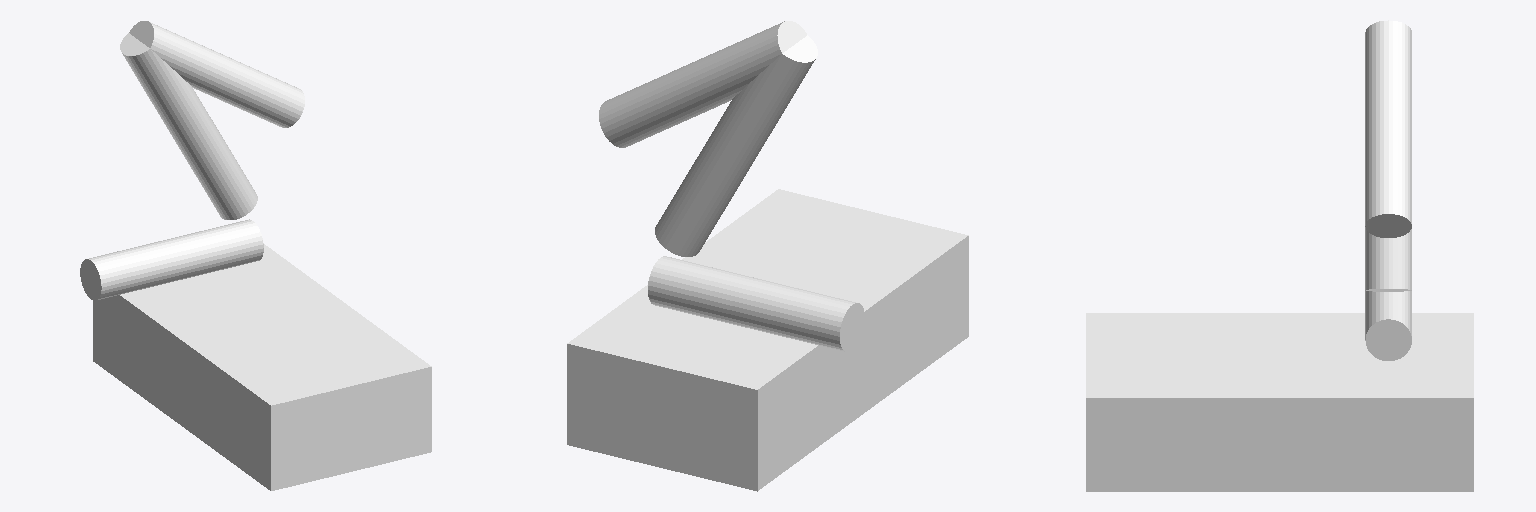
URDF robot description (lego_arm):
<?xml version="1.0"?>

<robot name="lego_arm">
    
    <link name="base_link">
        <visual>
            <origin xyz="-0.017 -0.056 0.0265" rpy="0.0 0.0 0.0"/>                  
            <geometry>
                <box size="-0.104 -0.200 0.053"/>
            </geometry> 
            <material name="white">
                <color rgba="1 1 1 1"/>
            </material>
        </visual>
    </link>

    <joint name="arm_joint_1" type="continuous">
        <parent link="base_link"/>
        <child link="link_1"/>
        <origin xyz="0.0 0.0 0.098"/>
        <axis xyz="0 0 1"/>
    </joint>      
       
    <link name="link_1">
        <visual>
            <origin xyz="-0.043 0 -0.024" rpy="0.0 -1.57075 0.0"/>
            <geometry>
                <cylinder length="0.105" radius="0.012"/>
            </geometry> 
            <material name="white">
                <color rgba="1 1 1 1"/>
            </material>
        </visual>
    </link>

    <joint name="arm_joint_2" type="continuous">
        <parent link="link_1"/>
        <child link="link_2"/>
        <origin xyz="0.0 0.0 0.0" rpy="1.57075 -2.0735 0.0"/>
        <axis xyz="0 0 1"/>
    </joint>    
       
    <link name="link_2">
        <visual>    
        <origin xyz="0.0665 0.0 0.0" rpy="0.0 1.57075 0.0"/>
        <geometry>
            <cylinder length="0.133" radius="0.012"/>
        </geometry>
        <material name="white">
            <color rgba="1 1 1 1"/>
            </material>
        </visual>
    </link>
    
    
    <joint name="arm_joint_3" type="continuous">
        <parent link="link_2"/>
        <child link="link_3"/>
        <origin xyz="0.133 0.0 0.0" rpy="0.0 0.0 -2.65635"/>
        <axis xyz="0 0 1"/>
    </joint>      
       
    <link name="link_3">
        <visual>    
            <origin xyz="0.0585 0.0 0.0" rpy="1.57075 0.0 -1.57075"/>
            <geometry>
                <cylinder length="0.117" radius="0.012"/>
            </geometry>
            <material name="white">
                <color rgba="1 1 1 1"/>
            </material>
        </visual>
    </link>
       
    <joint name="fixed_joint" type="fixed">
        <parent link="link_3"/>
        <child link="ultrasonic_sensor"/>
        <origin xyz="0.117 0.0 0.0" rpy="1.57075 0.0 1.57075"/>
        <axis xyz="0 0 0"/>
    </joint>

    <link name="ultrasonic_sensor">
        <visual>
        <origin xyz="-0.02 0 -0.0303" rpy="-1.57075 0 -1.57075" />
        <geometry>
            <mesh filename="package://nxt_description/meshes/parts/53792.dae" scale=" 0.0004  0.0004  0.0004"/>
        </geometry>
        </visual>
    </link>
       
 </robot>

--- Render facts (derived) ---
Views: 3 orthographic renders of the robot side by side, from view 1: azimuth 30°, elevation 25°; view 2: azimuth 150°, elevation 25°; view 3: azimuth 270°, elevation 25°.
Model lego_arm with 5 links and 4 joints (3 continuous, 1 fixed), rooted at base_link, posed every joint at zero.
Links seen in each view (by area): view 1: base_link, link_2, link_1, link_3; view 2: base_link, link_2, link_1, link_3; view 3: base_link, link_3, link_1, link_2.
Link boxes in pixels (bbox=[...]): base_link: bbox=[93, 244, 431, 490]; link_2: bbox=[120, 33, 257, 219]; link_1: bbox=[80, 219, 263, 300]; link_3: bbox=[129, 21, 304, 127]; base_link: bbox=[567, 189, 968, 491]; link_2: bbox=[655, 35, 817, 256]; link_1: bbox=[648, 256, 864, 351]; link_3: bbox=[599, 21, 806, 147]; base_link: bbox=[1086, 313, 1473, 491]; link_3: bbox=[1365, 20, 1411, 237]; link_1: bbox=[1365, 290, 1411, 360]; link_2: bbox=[1365, 227, 1411, 291].
Bounding box of the posed robot: 0.1357 × 0.2 × 0.2246 m (x, y, z).
Meshes: 1 distinct files referenced, 0 mesh visuals loaded (none loaded); not drawn: 1 (reference not matched to a file when rendering).